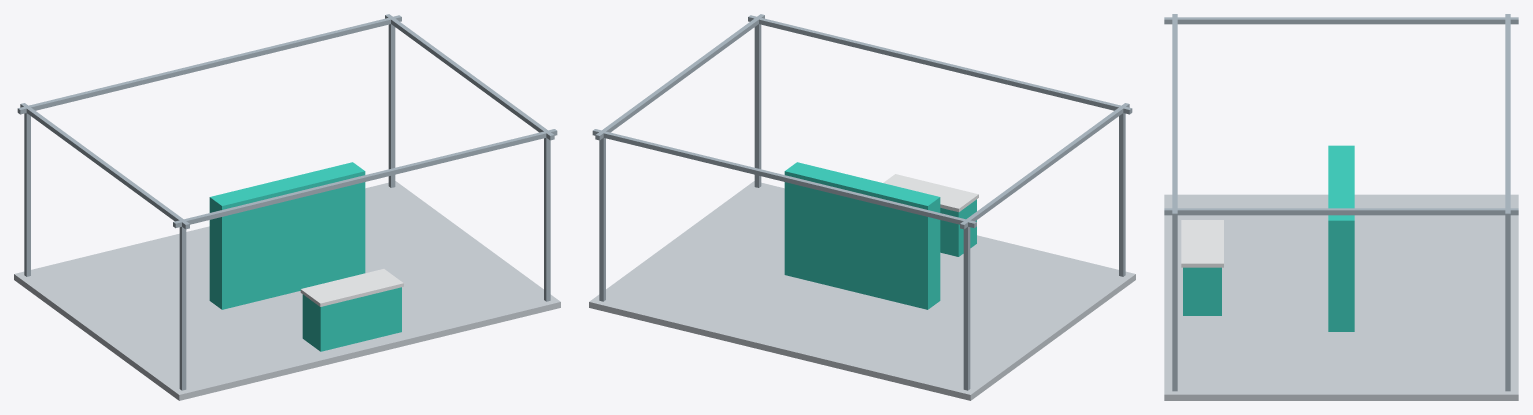
The picture shows the model from 3 angles, left to right: view 1: azimuth 30°, elevation 25°; view 2: azimuth 150°, elevation 25°; view 3: azimuth 270°, elevation 25°; orthographic projection. The views are drawn at different scales.
Parts seen in each view (by area): view 1: Exhibition Booth Concept; view 2: Exhibition Booth Concept; view 3: Exhibition Booth Concept.
Boxes of the visible parts, bbox=[...] form: Exhibition Booth Concept: bbox=[14, 14, 560, 400]; Exhibition Booth Concept: bbox=[589, 14, 1135, 400]; Exhibition Booth Concept: bbox=[1164, 14, 1518, 400].
Size of the model in its own units: 8 by 3.49 by 6.
